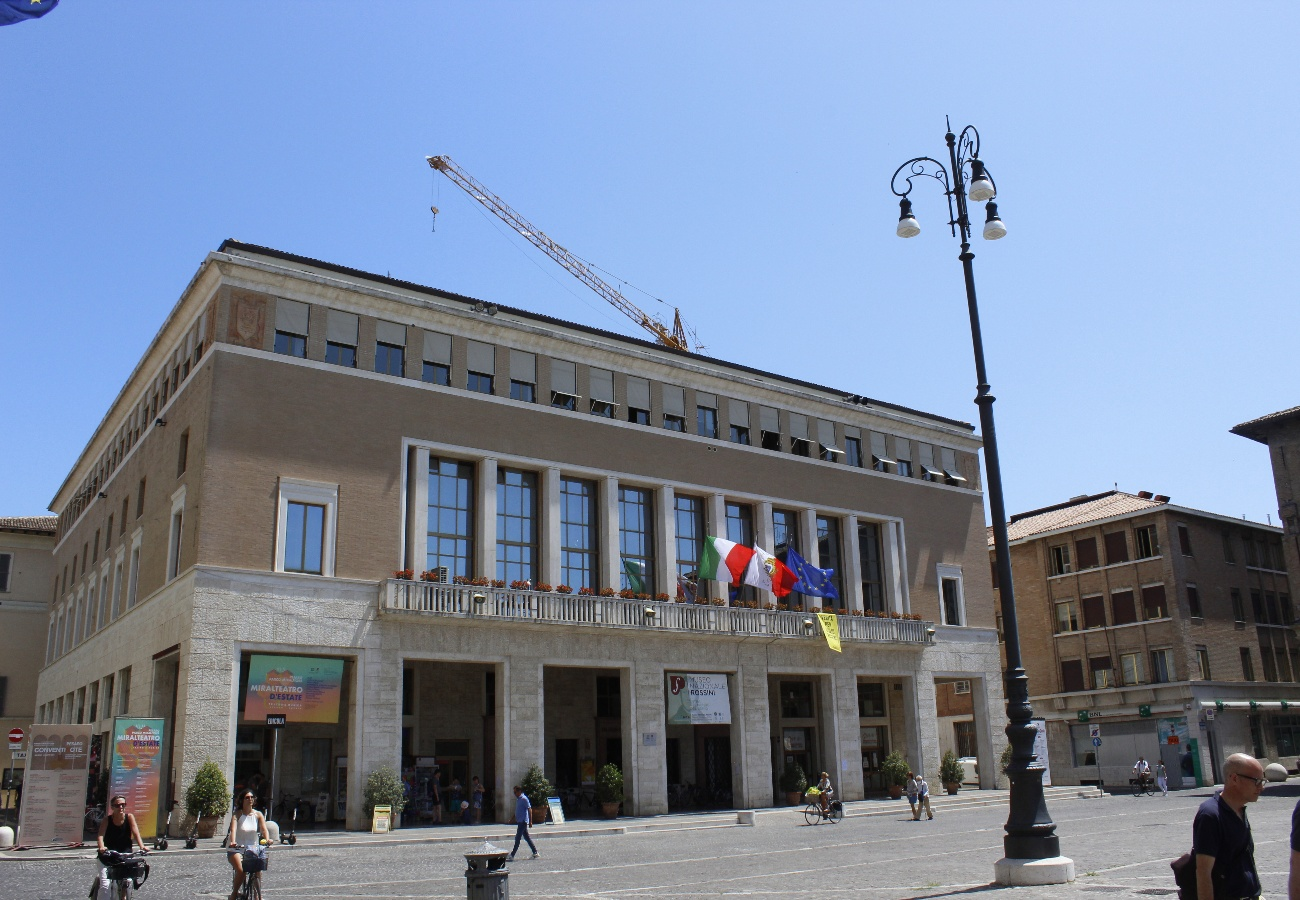Palazzo Comunale: (218, 263, 997, 826)
